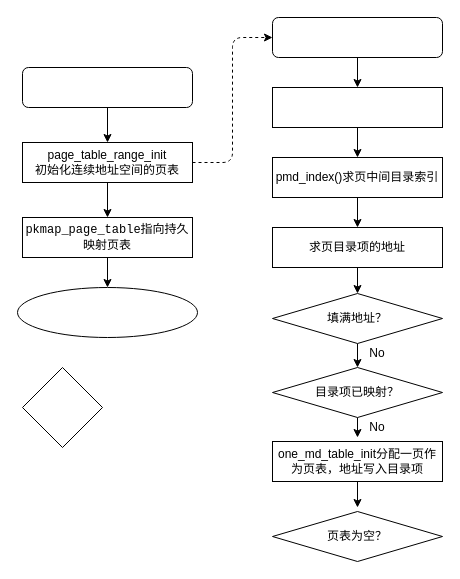
Image size: 460x579. Some labels were removed from this diagram. Each missing label, with the centre of its shape:
"page_table_range_init" goes at (357,37).
"permanent_kmaps_init" goes at (107,87).
"pgd_index()求页目录索引" goes at (357,107).
"结束" goes at (107,312).
